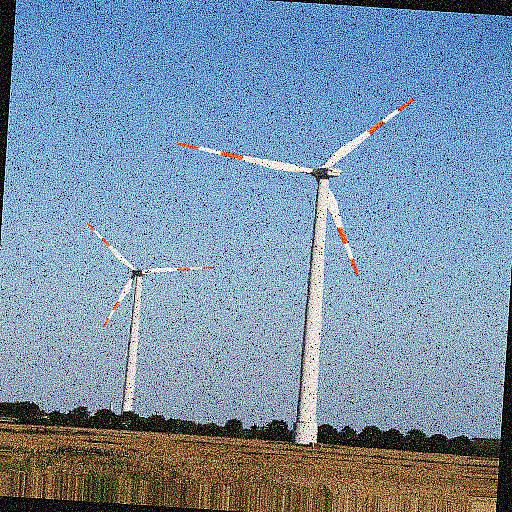wind turbine: (175, 96, 417, 437), (86, 221, 218, 412)
